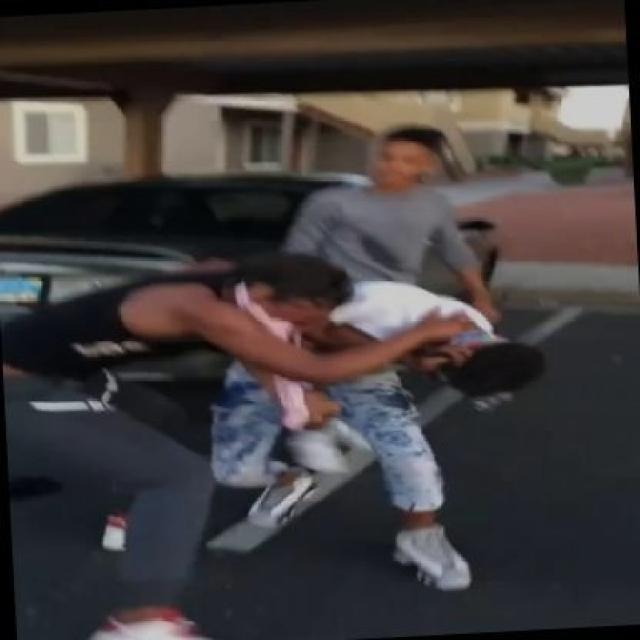fight: (3, 241, 548, 633)
non-fight: (288, 120, 522, 324)
